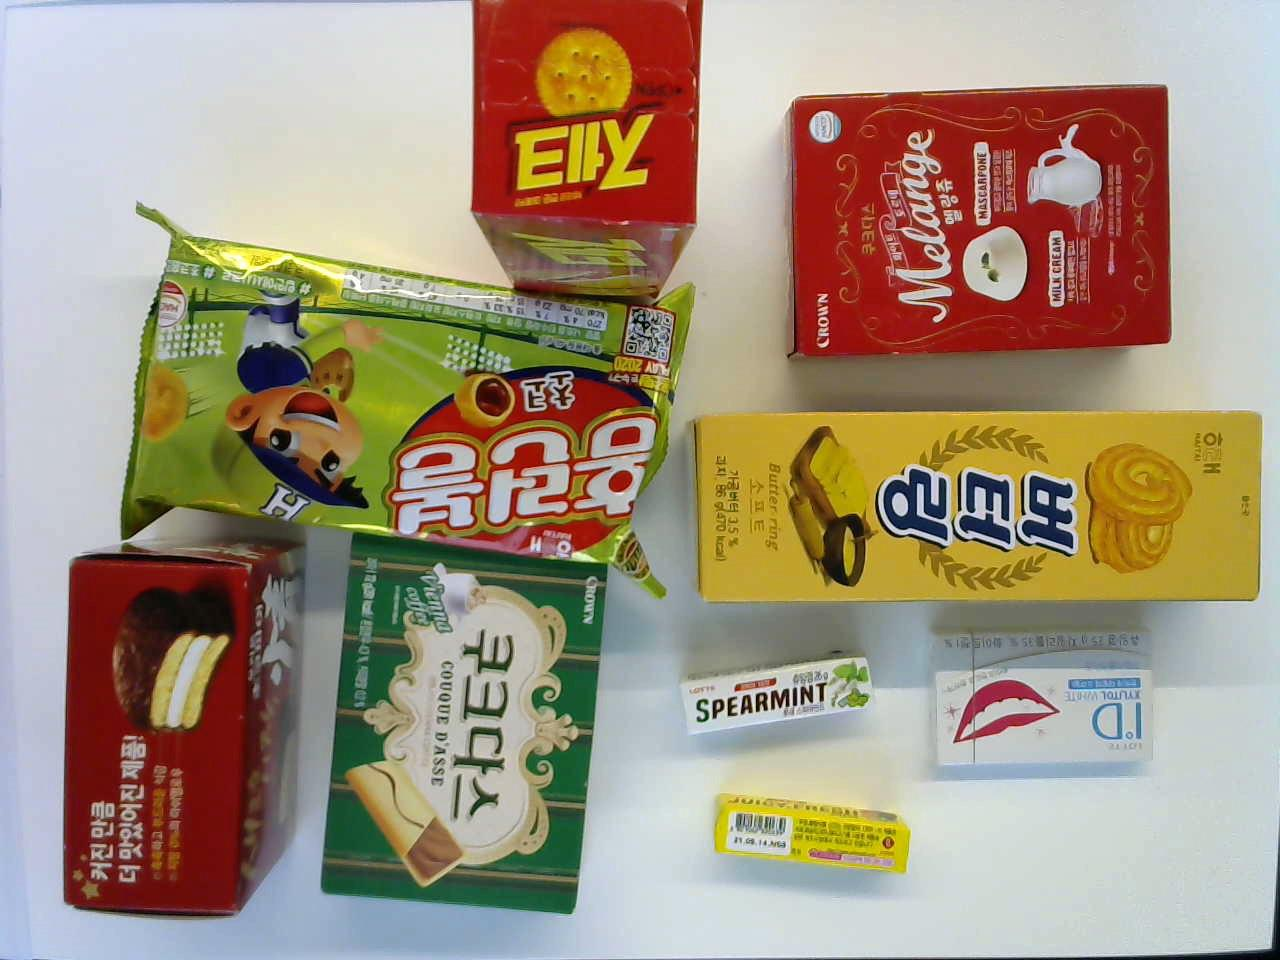ID_gum: (921, 622, 1157, 775)
buttering: (685, 410, 1265, 604)
chocopie: (57, 535, 310, 924)
couque_coffee: (322, 529, 612, 913)
couque_white: (783, 92, 1176, 349)
homerunball: (125, 217, 654, 562)
juicyfresh: (707, 792, 910, 869)
spearmint: (683, 646, 872, 752)
zec: (470, 1, 702, 299)
